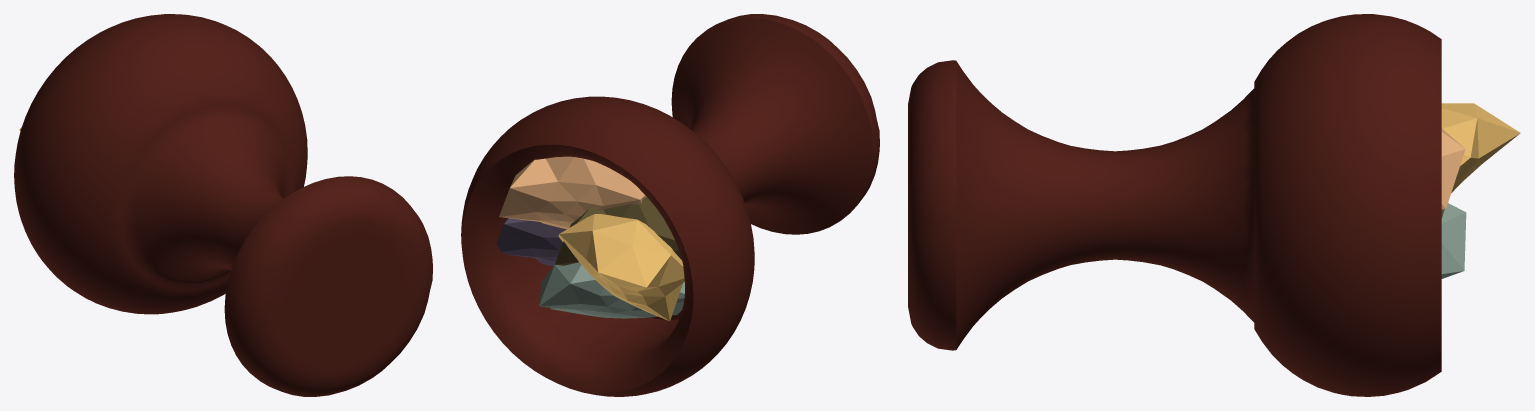
Rendered from copal.fbx.
3 renders of one model, left to right at view 1: azimuth 30°, elevation 25°; view 2: azimuth 150°, elevation 25°; view 3: azimuth 270°, elevation 25°, orthographic. The views are drawn at different scales.
Parts seen in each view (by area): view 1: Cubo; view 2: Cubo, Esfera geodésica.005, Esfera geodésica.004, Esfera geodésica.003, Esfera geodésica.002, Esfera geodésica.001; view 3: Cubo, Esfera geodésica.005, Esfera geodésica.003, Esfera geodésica.004.
Boxes of the visible parts, box(x1,y1,x2,y2) form: Cubo: box(14, 14, 432, 396); Cubo: box(461, 14, 879, 396); Esfera geodésica.005: box(558, 214, 684, 321); Esfera geodésica.004: box(499, 156, 646, 229); Esfera geodésica.003: box(539, 262, 684, 318); Esfera geodésica.002: box(496, 218, 566, 266); Esfera geodésica.001: box(555, 196, 681, 265); Cubo: box(908, 14, 1441, 396); Esfera geodésica.005: box(1441, 103, 1520, 193); Esfera geodésica.003: box(1441, 203, 1466, 278); Esfera geodésica.004: box(1441, 128, 1465, 209).
Bounding box in the file's own units: 202 × 202 × 322.
